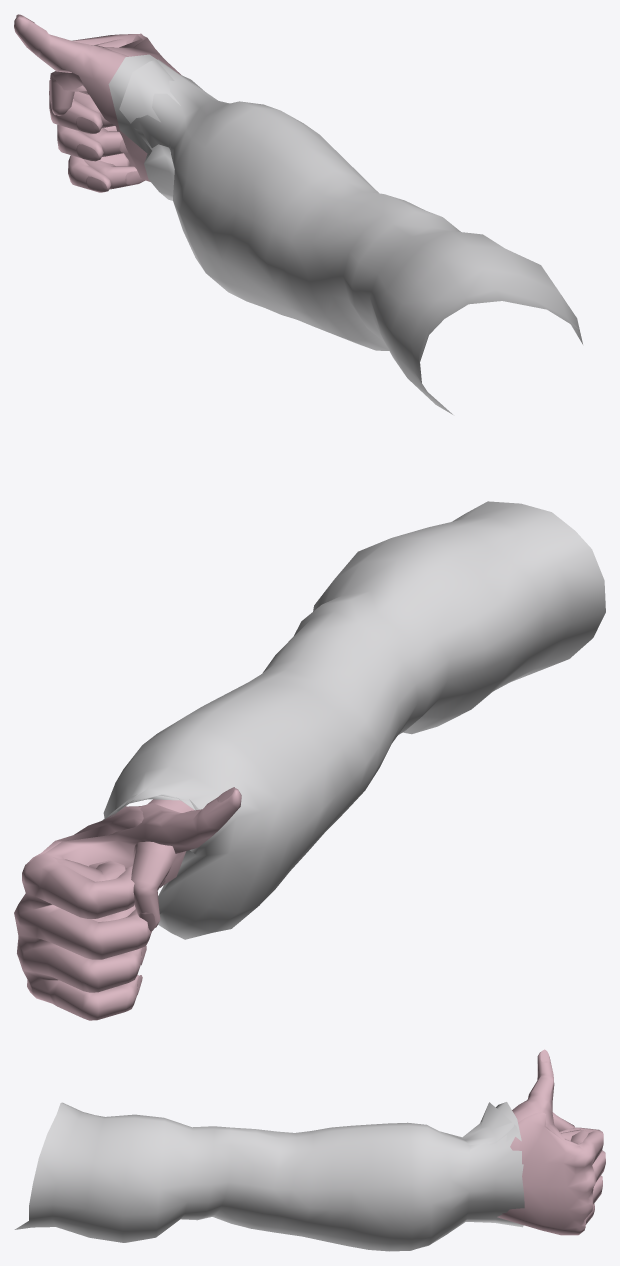
Rendered from arms_vroid.glb.
The picture shows the model from 3 angles, top to bottom: view 1: azimuth 30°, elevation 25°; view 2: azimuth 150°, elevation 25°; view 3: azimuth 270°, elevation 25°; orthographic projection. The views are drawn at different scales.
Visible parts, largest first — view 1: grip, fist; view 2: grip, fist; view 3: fist, grip.
Boxes of the visible parts, x1,y1,x2,y2 form: grip: (14,14,582,414); fist: (50,33,579,407); grip: (14,501,605,1020); fist: (27,501,605,934); fist: (31,1102,588,1250); grip: (14,1049,605,1251).
Bounding box in the file's own units: 0.1525 × 0.1492 × 0.5063.
